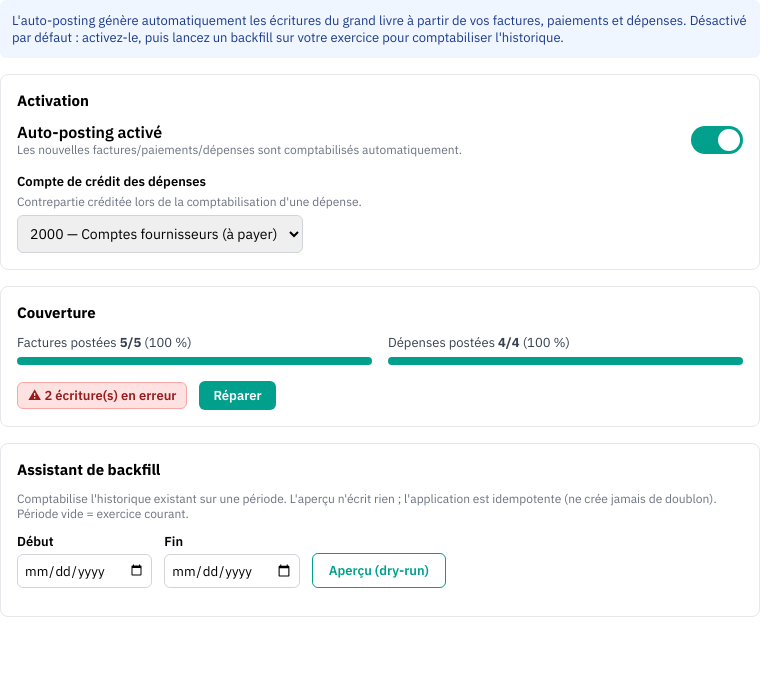
Test: AutopostTab — réparation › réparation partielle → message échec persistant (type err)
Click the button "Réparer" at (238, 396), box [199,381,276,410]
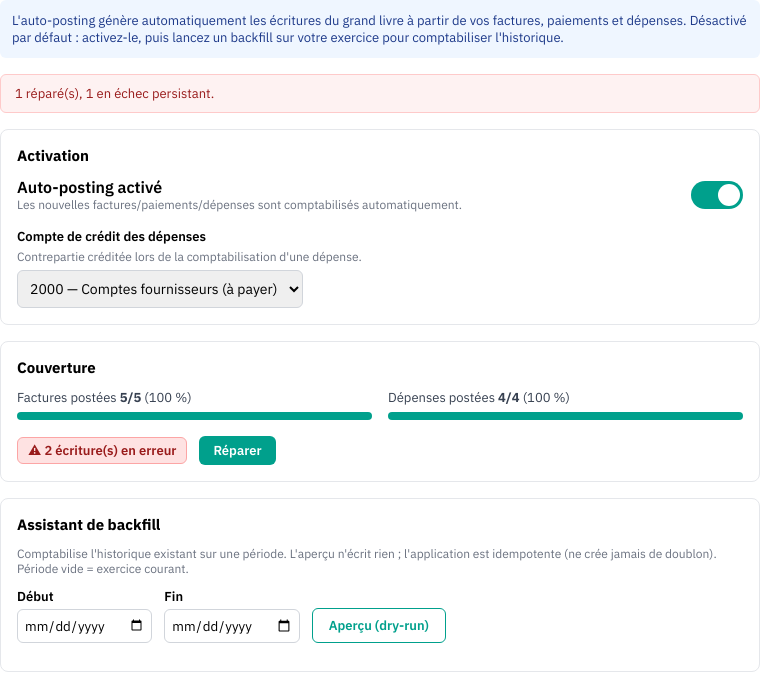
Now the text "en échec persistant" is shown, box [15,85,214,102]
